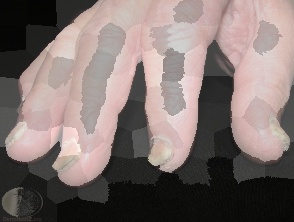Nail_psoriasis: (35, 127, 94, 182), (253, 98, 294, 161), (142, 124, 181, 175), (0, 110, 43, 156)
